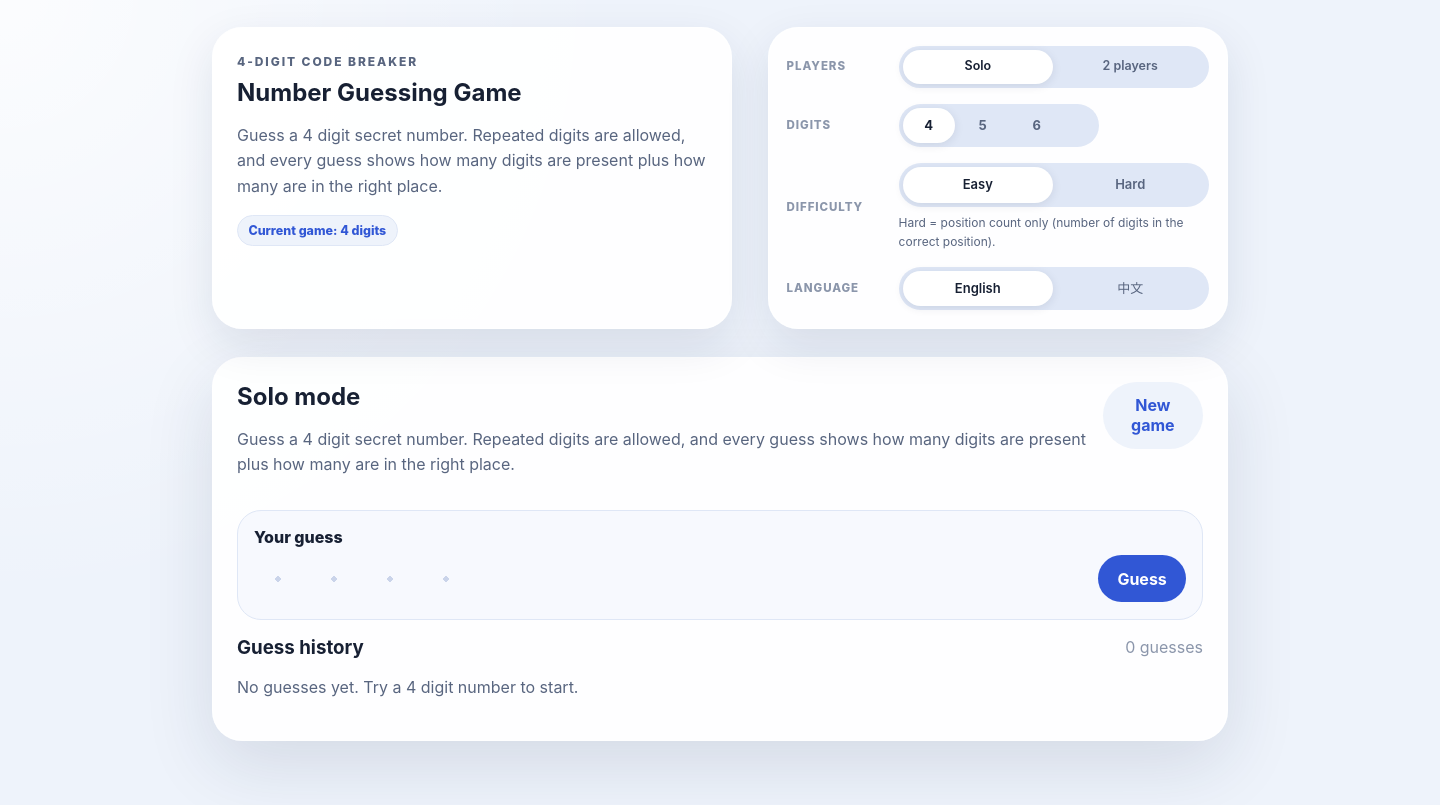
Test case: App › renders solo mode by default and switches to two-player setup
The image size is (1440, 805).
Expected: the heading "Number Guessing Game" is shown, [237, 78, 522, 107]
Expected: the heading "Solo mode" is shown, [237, 382, 360, 411]
Step 1. Click the tab "2 players" → click(1130, 67), box [1055, 50, 1205, 84]
(page scrolled)
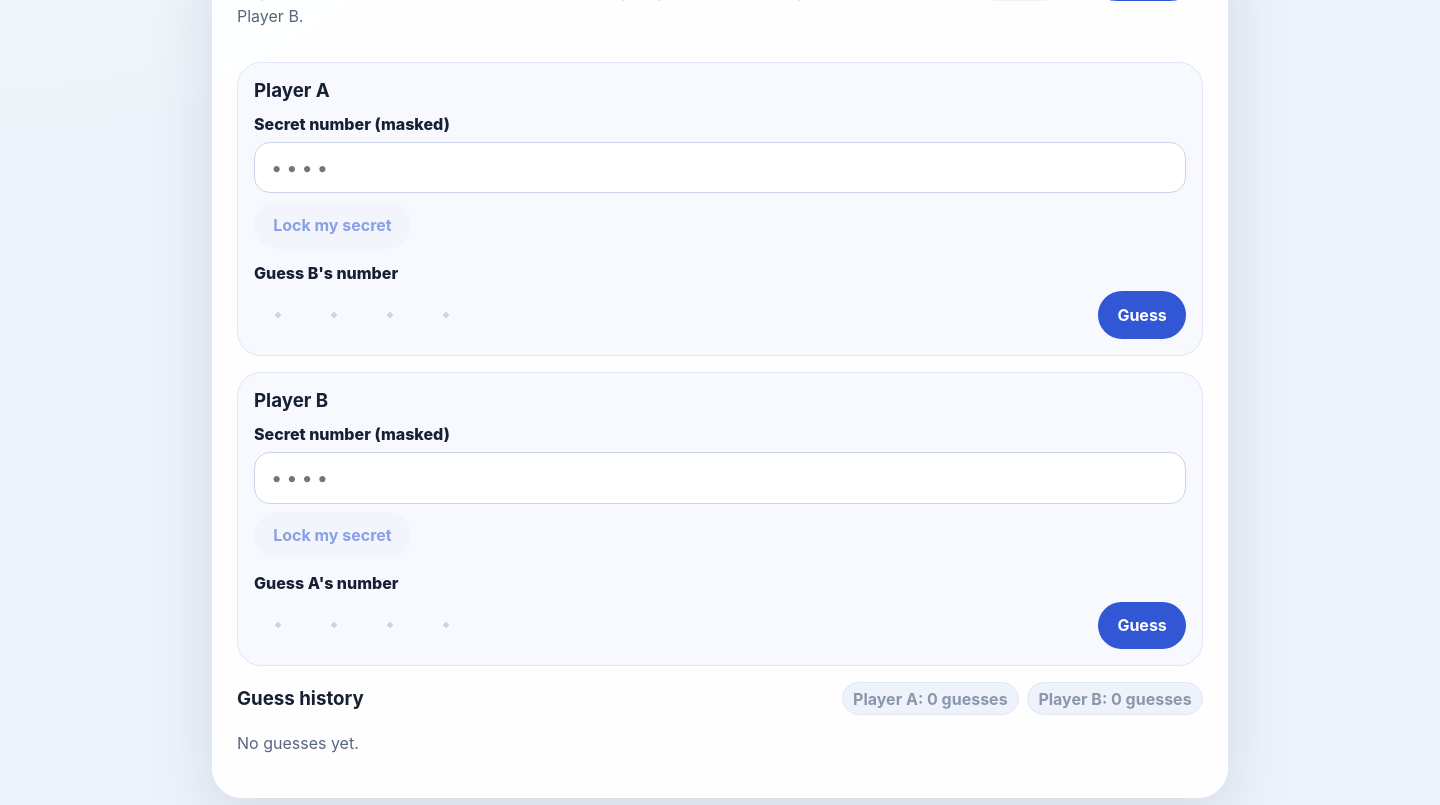
Expected: the heading "Player A" is shown, [254, 79, 330, 102]
Expected: the heading "Player B" is shown, [254, 389, 328, 412]
